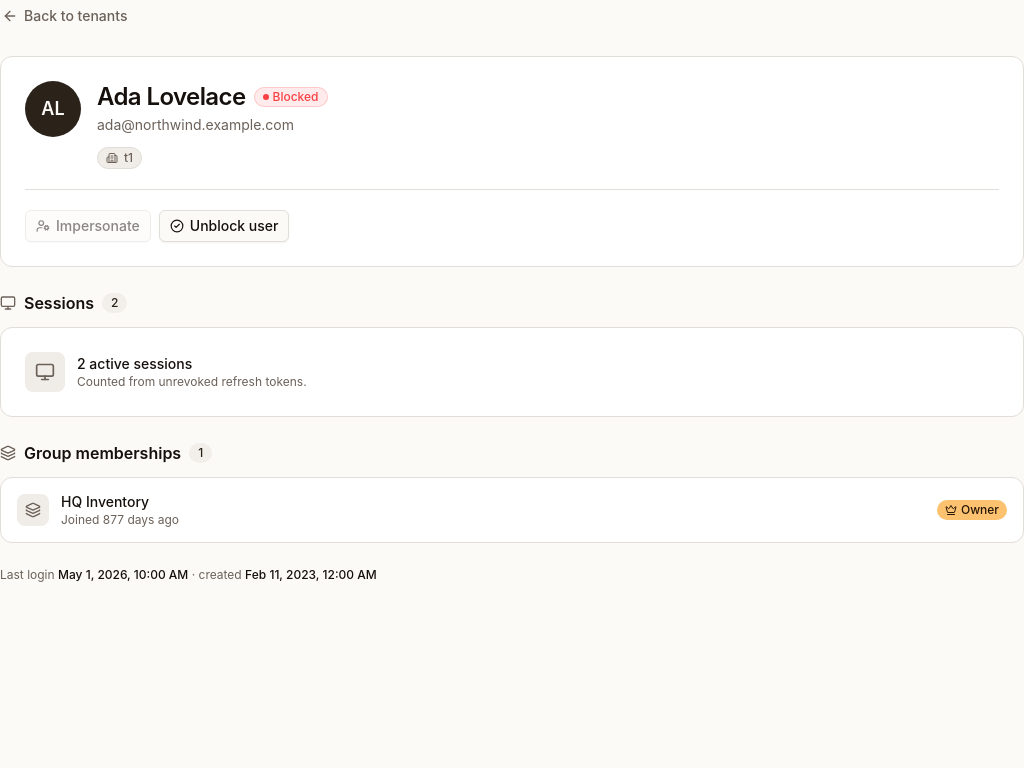
Test: AdminUserDetailPage › unblocks a blocked user: badge flips back to Active and toast appears
Click the button with test id "admin-user-unblock". click: (224, 226)
box: [159,210,290,242]
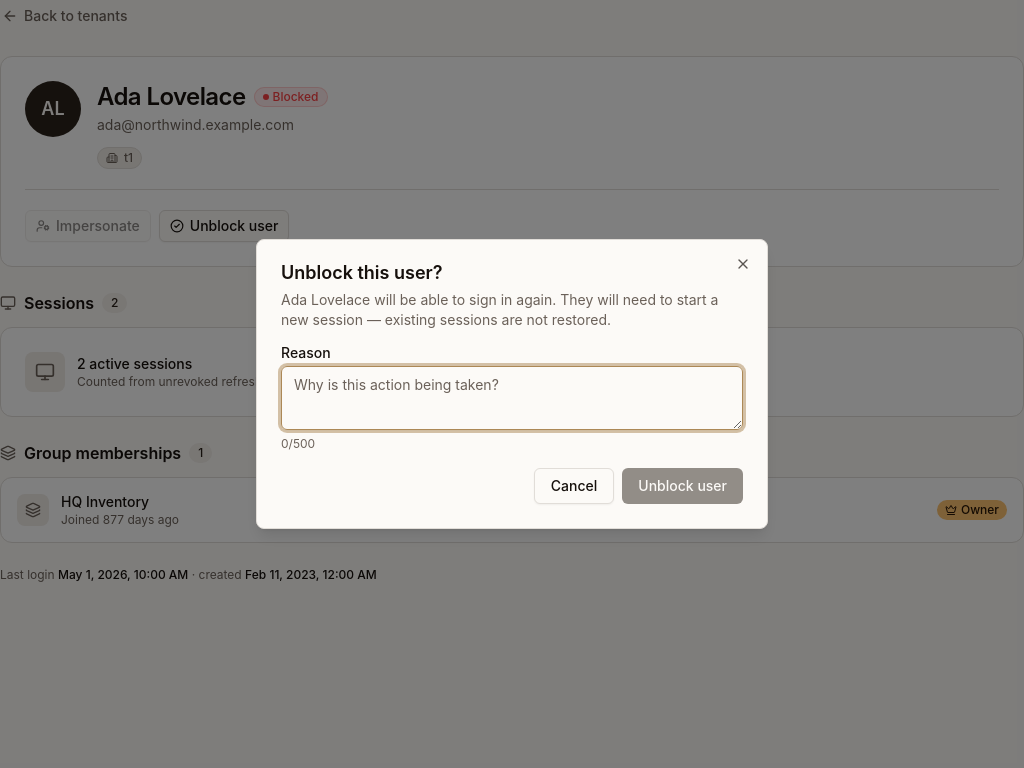
Type "Appeal approved" into the text box with test id "admin-user-action-reason". click: (512, 398)
box: [281,366,743,430]
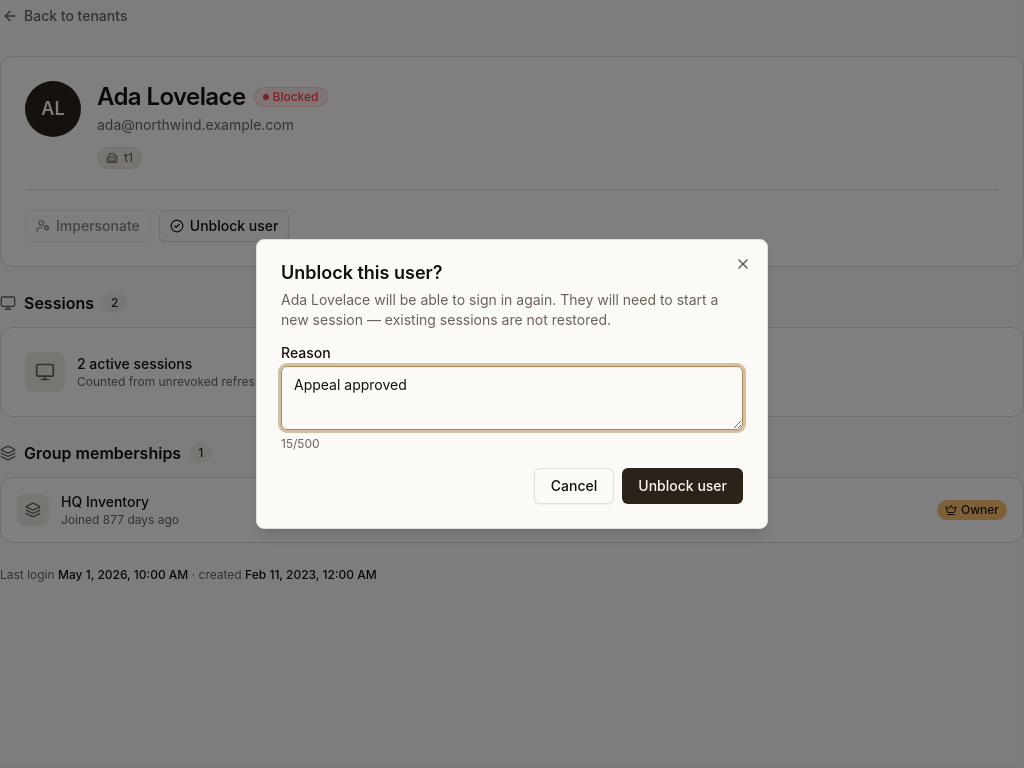
Click the button with test id "admin-user-action-confirm". click: (683, 486)
box: [622,468,743,504]
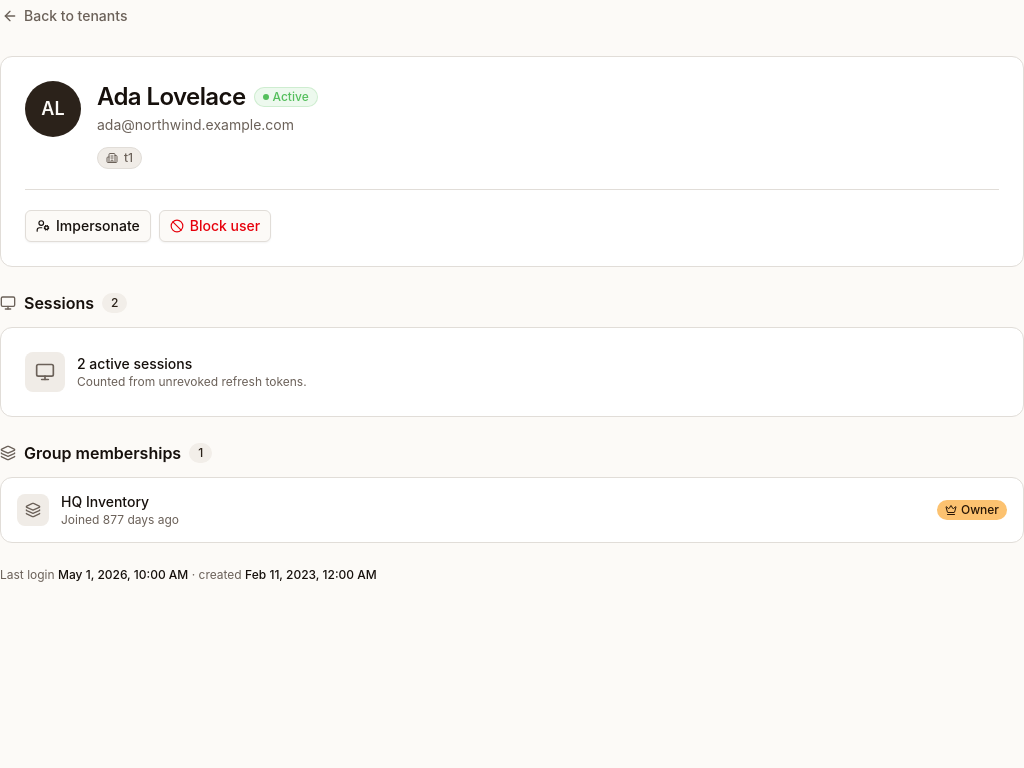
Now the dialog with test id "admin-user-action-dialog" is gone
Now the text "Active" is shown, box [254,87,318,107]
